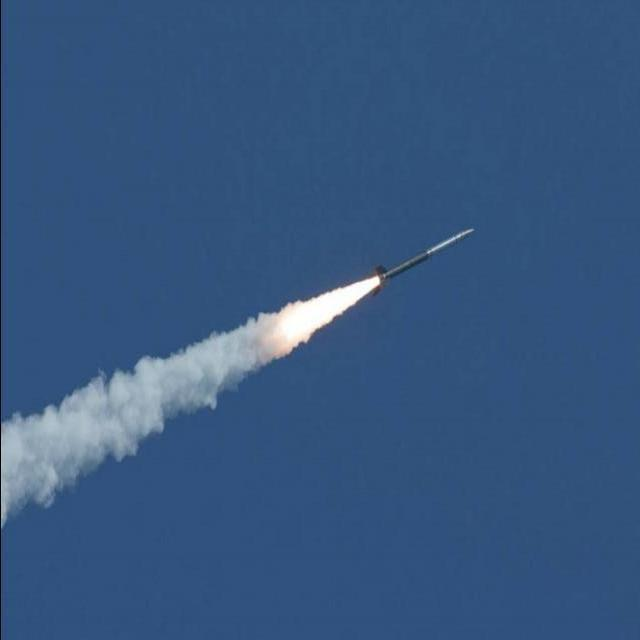missile: (377, 224, 478, 280)
